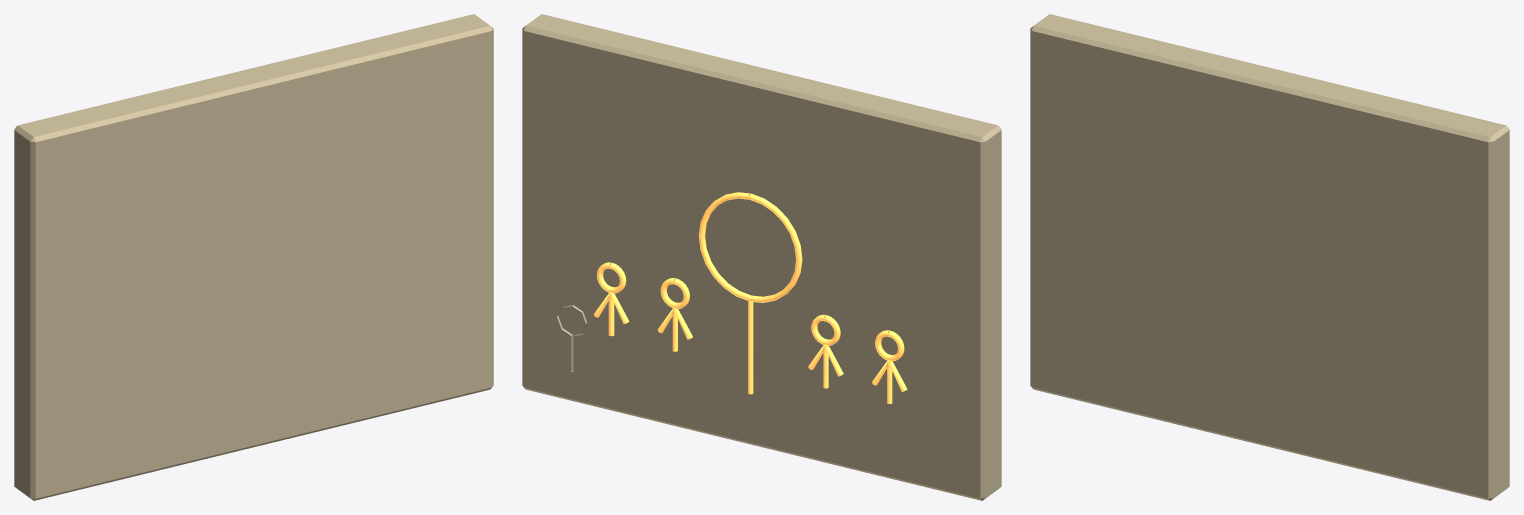
File: mural_1.glb
3 renders of one model, left to right at view 1: azimuth 30°, elevation 25°; view 2: azimuth 150°, elevation 25°; view 3: azimuth 330°, elevation 25°, orthographic.
Visible parts, largest first — view 1: mural_1; view 2: mural_1; view 3: mural_1.
Part boxes in pixels (x1,y1,x2,y2): mural_1: [14, 14, 493, 500]; mural_1: [522, 14, 1001, 500]; mural_1: [1030, 14, 1509, 500].
Size of the model in its own units: 4 by 3 by 0.344.
